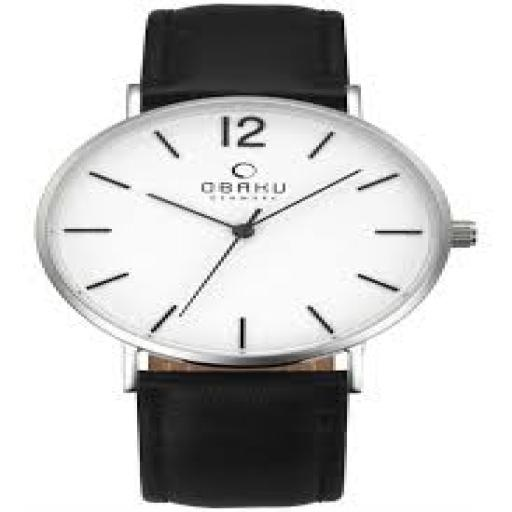KolSaati: (0, 1, 499, 511)
